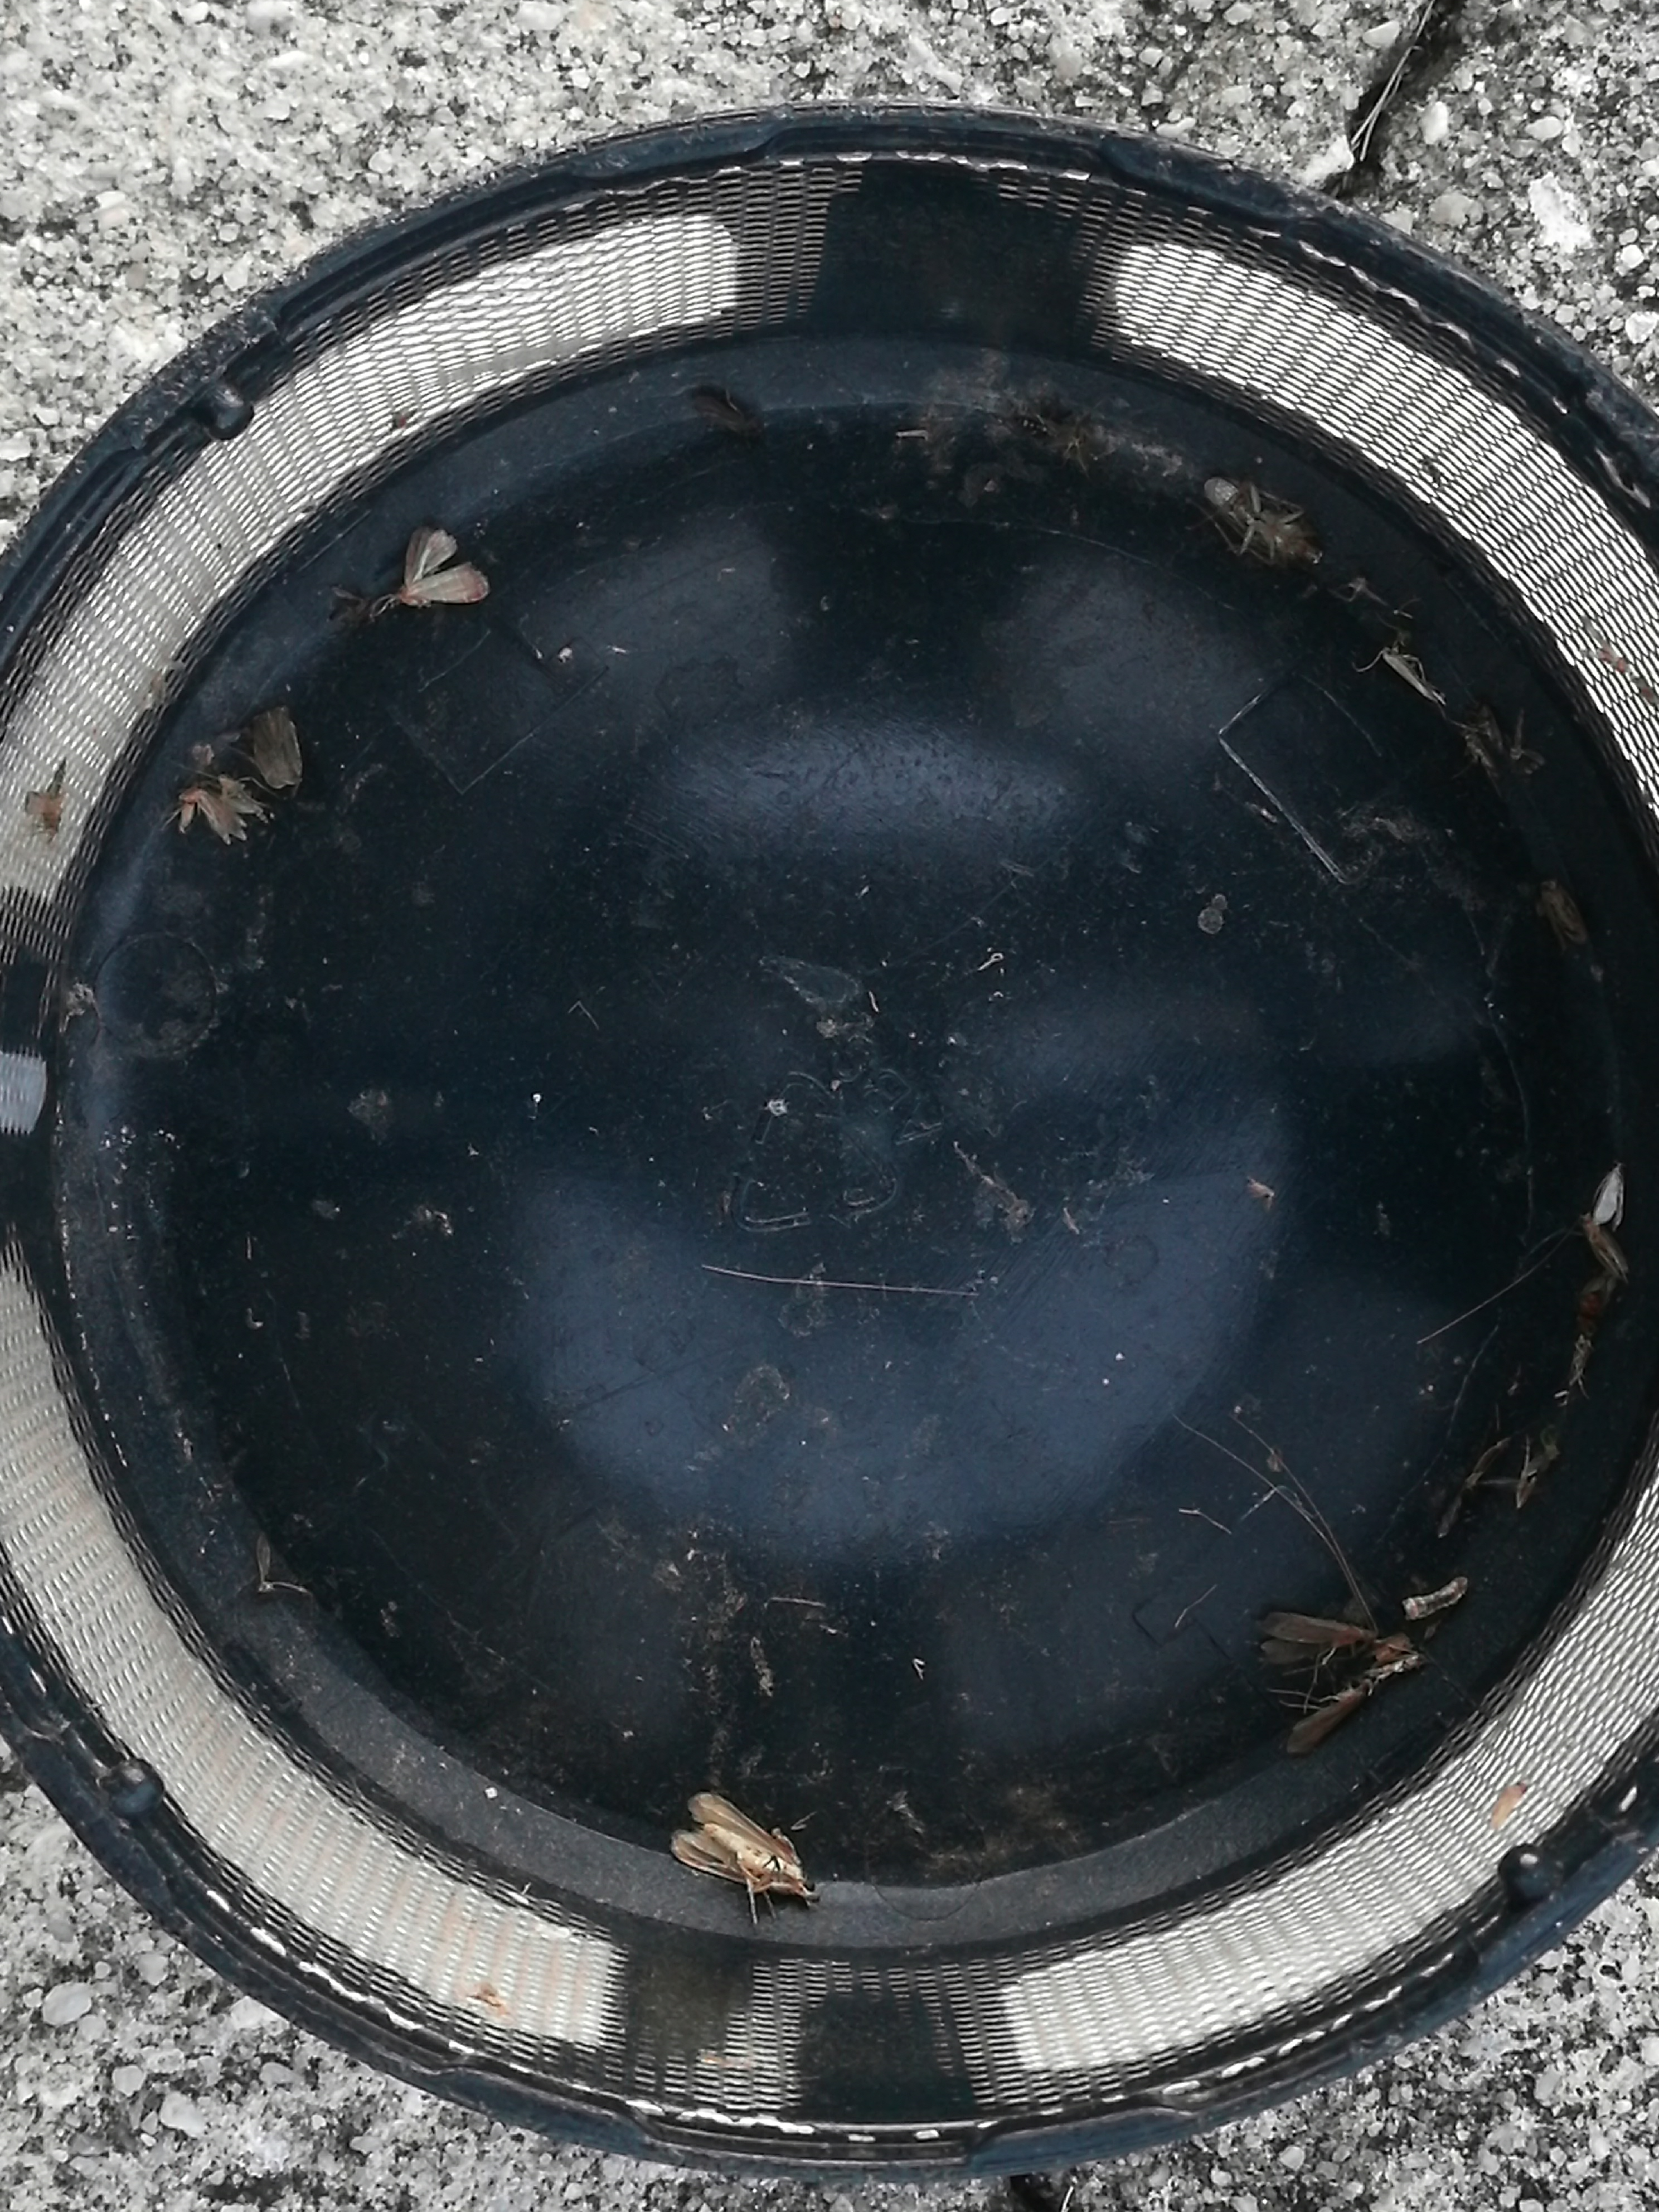mosquito: (1281, 1672, 1371, 1754), (1263, 1609, 1370, 1660), (1380, 646, 1443, 705), (1581, 1217, 1631, 1280), (1542, 883, 1593, 946), (1593, 1160, 1624, 1224)
moth: (667, 1794, 798, 1890), (397, 526, 486, 604)
